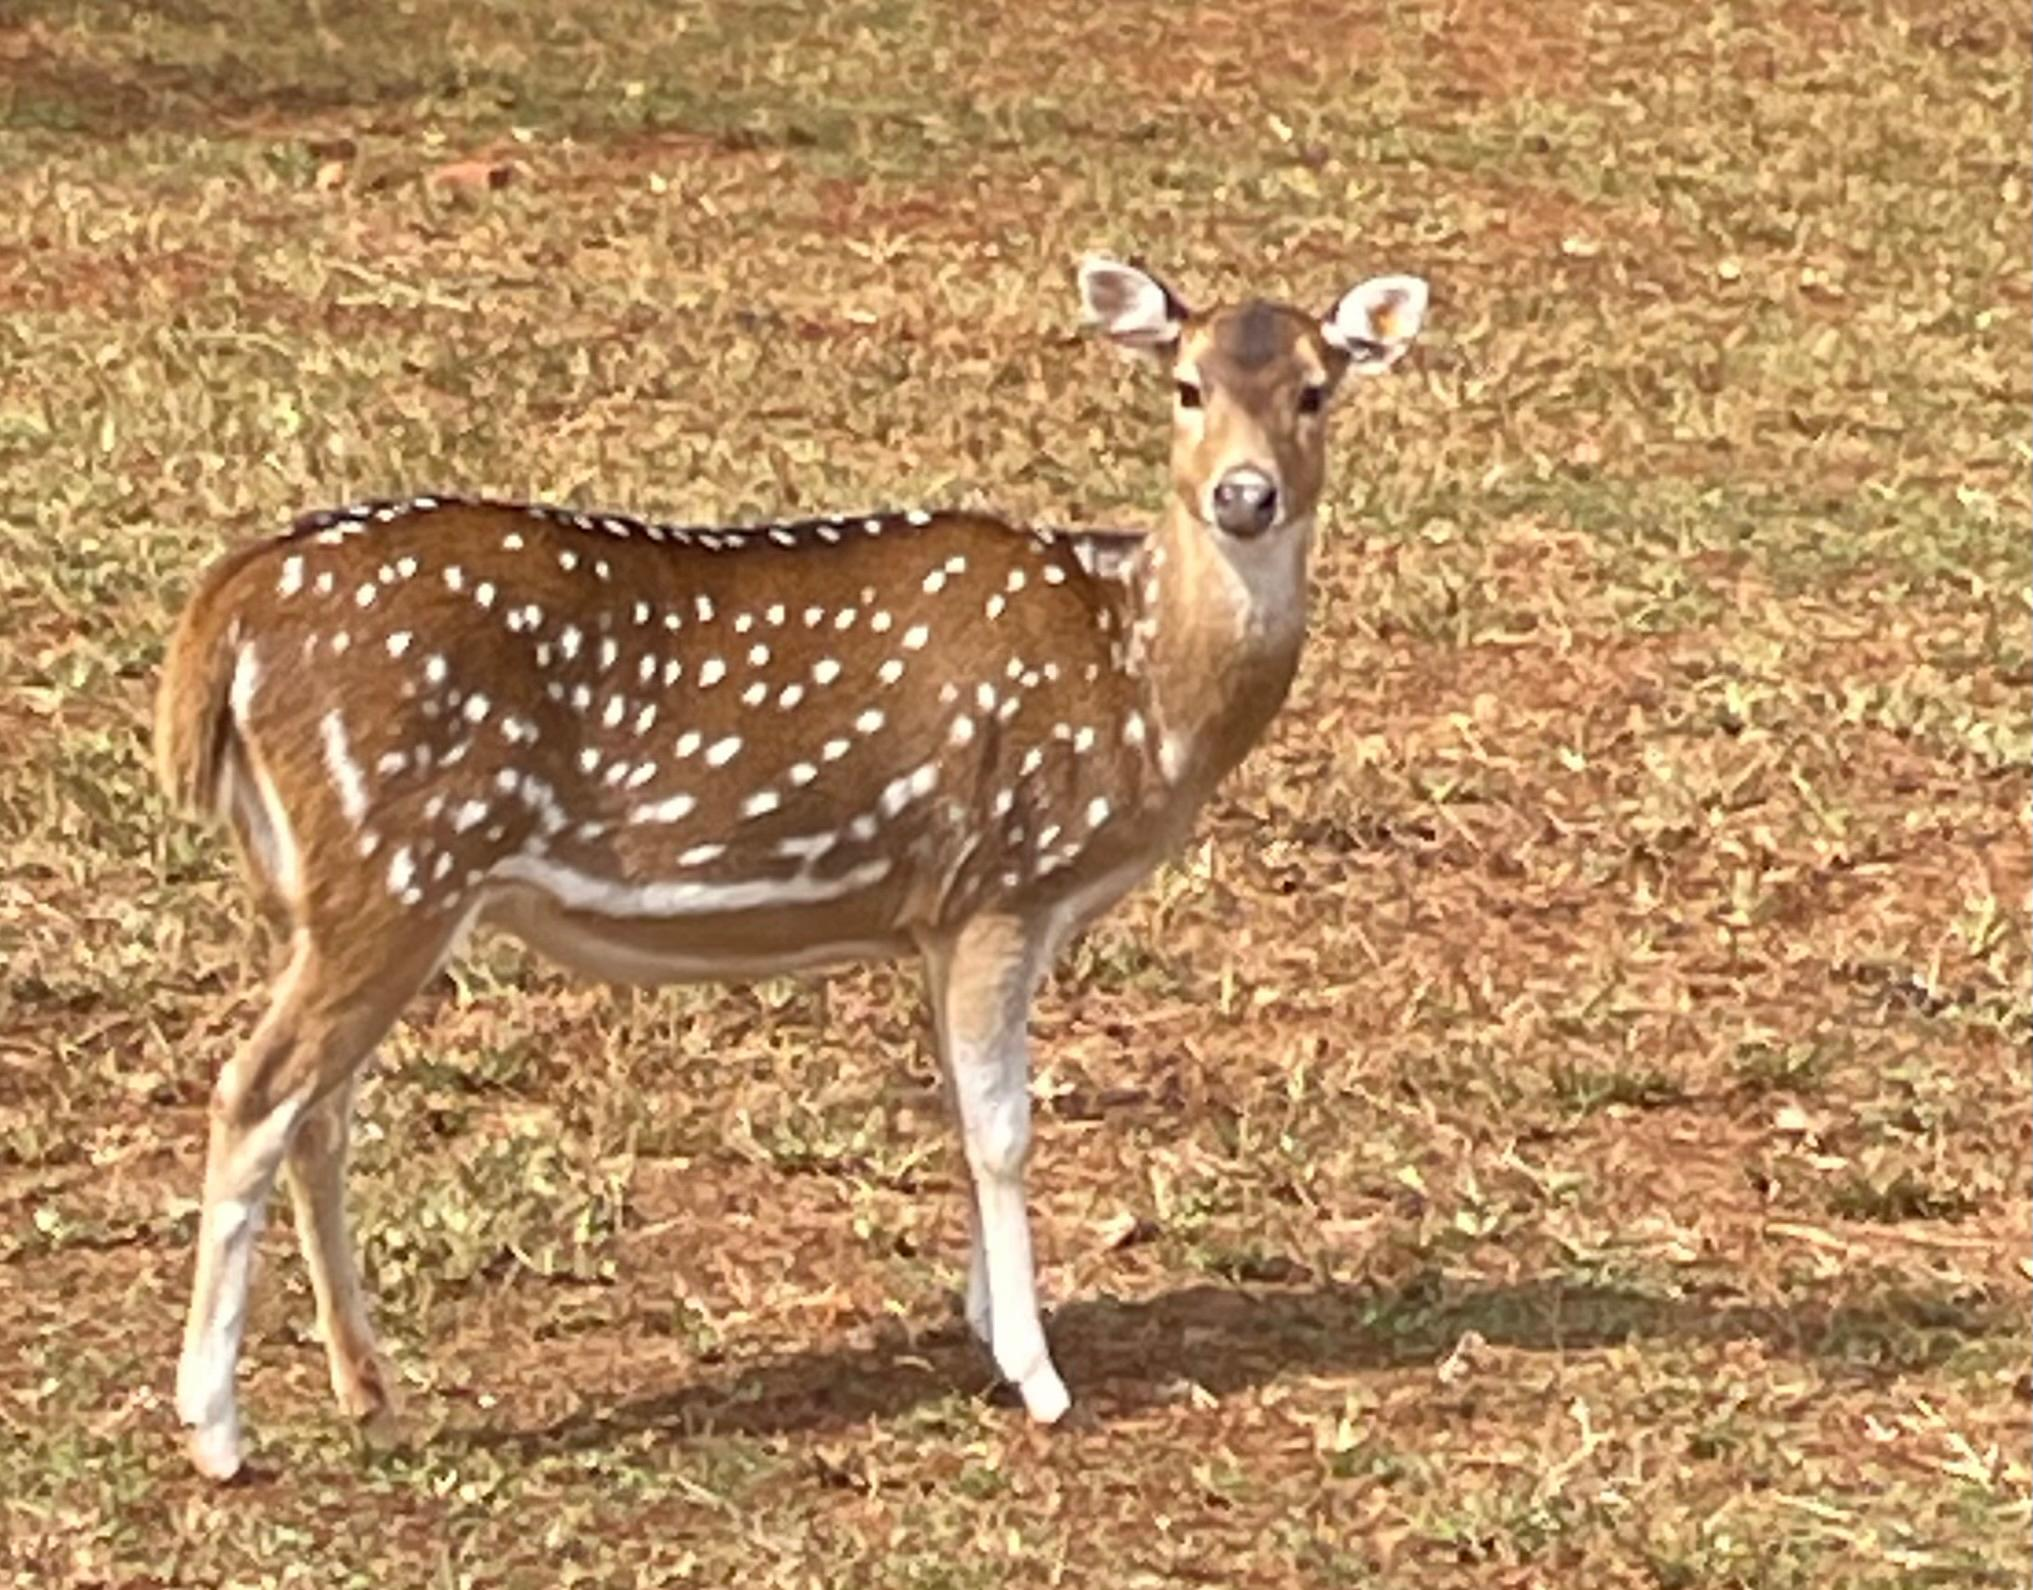Deer: (153, 261, 1427, 1478)
